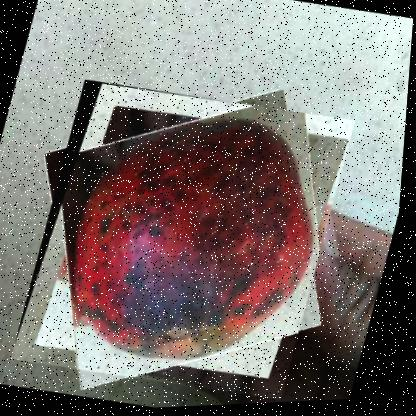pomegranate_rotten: (11, 69, 359, 412)
